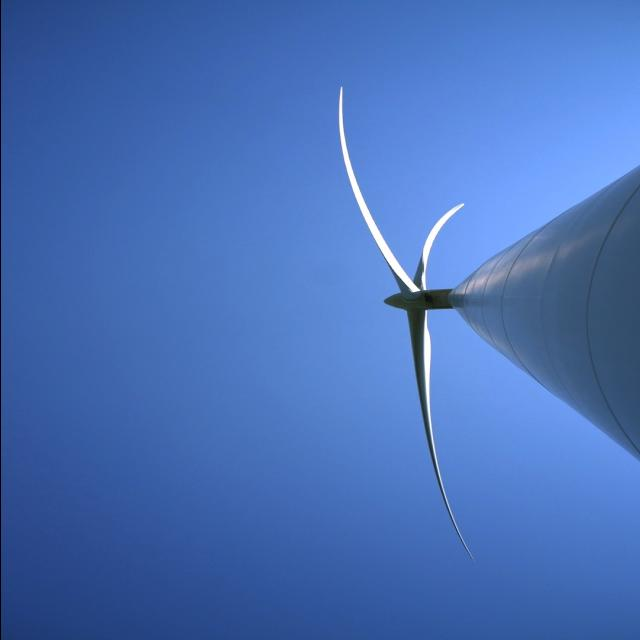blade 1: (332, 82, 386, 260)
blade 2: (385, 334, 455, 540)
blade 3: (416, 168, 468, 274)
